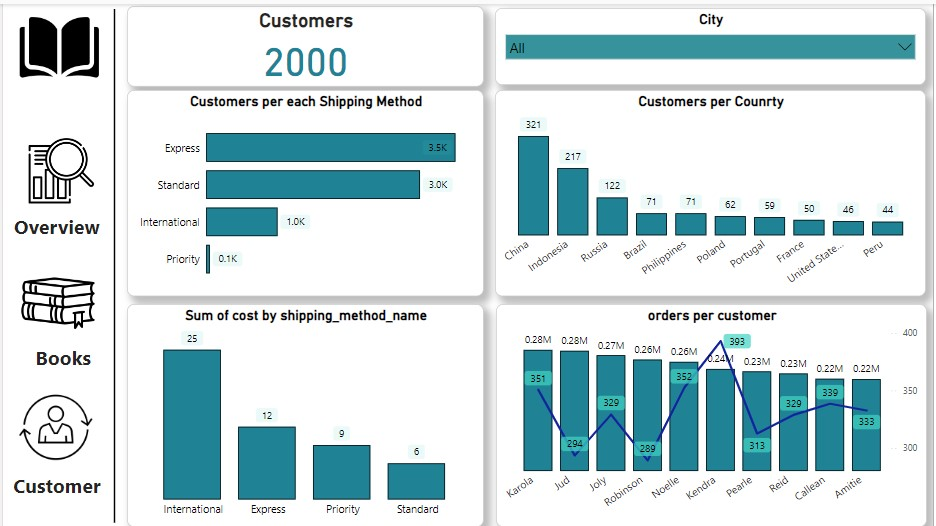

The page's visual inventory and layout, read from the dashboard file:
{"tool":"powerbi","page":{"name":"customer","canvas":[1280,720],"ordinal":2},"visuals":[{"type":"card","title":"Customers","fields":{"Values":["CountNonNull(Customer_Dim.pk_customer_id_sk)"]},"box":[170.7,2.8,491.4,111.5],"z":0},{"type":"slicer","title":"City","fields":{"Values":["Address_Dim.city"]},"box":[677.2,5.5,593.2,106],"z":1000},{"type":"clusteredBarChart","title":"Customers per each Shipping Method","fields":{"Category":["Shipping_Method_Dim.shipping_method_name"],"Y":["CountNonNull(Order_History_Fact.fk_customer_id_BK)"]},"box":[170.7,118.4,491.4,283.5],"z":2000},{"type":"clusteredColumnChart","fields":{"Y":["Sum(Shipping_Method_Dim.cost)"],"Category":["Shipping_Method_Dim.shipping_method_name"]},"box":[170.7,412.9,491.4,307],"z":3000},{"type":"clusteredColumnChart","title":"Customers per Counrty","fields":{"Category":["Address_Dim.country_name"],"Y":["CountNonNull(Customer_address_Dim.fk_customer_id_bk)"]},"box":[677.2,118.4,593.2,284],"z":4000},{"type":"lineClusteredColumnComboChart","title":"orders per customer ","fields":{"Category":["Customer_Dim.First_Name"],"Y":["Sum(Sales_Fact.line_id)"],"Y2":["Sum(Sales_Fact.price)"]},"box":[678,412.9,593.2,306.9],"z":5000},{"type":"image","box":[0,0,154.1,118.9],"z":6000},{"type":"shape","box":[136.3,6.9,34.4,707.4],"z":7000},{"type":"image","box":[30.3,177.5,100.5,104.6],"z":8000},{"type":"image","box":[14.9,341.9,120.3,110.8],"z":9000},{"type":"textbox","box":[0,282.4,148.6,47.3],"z":10000},{"type":"textbox","box":[29.7,462.2,105.4,52.7],"z":11000},{"type":"textbox","box":[0,638.6,148.6,49.5],"z":12000},{"type":"image","box":[15.1,527.1,115.6,111.5],"z":13000}]}

Visuals, with their boxes on the page's 1280x720 design canvas (x1, y1, x2, y2). These are canvas units, not pixel positions in the 936x526 screenshot, which may show the page scaled, cropped or inside an application window:
"Customers" card: {"x1": 171, "y1": 3, "x2": 662, "y2": 114}
"City" slicer: {"x1": 677, "y1": 6, "x2": 1270, "y2": 112}
"Customers per each Shipping Method" clusteredBarChart: {"x1": 171, "y1": 118, "x2": 662, "y2": 402}
clusteredColumnChart - Sum(Shipping_Method_Dim.cost) x Shipping_Method_Dim.shipping_method_name: {"x1": 171, "y1": 413, "x2": 662, "y2": 720}
"Customers per Counrty" clusteredColumnChart: {"x1": 677, "y1": 118, "x2": 1270, "y2": 402}
"orders per customer " lineClusteredColumnComboChart: {"x1": 678, "y1": 413, "x2": 1271, "y2": 720}
image: {"x1": 0, "y1": 0, "x2": 154, "y2": 119}
shape: {"x1": 136, "y1": 7, "x2": 171, "y2": 714}
image: {"x1": 30, "y1": 178, "x2": 131, "y2": 282}
image: {"x1": 15, "y1": 342, "x2": 135, "y2": 453}
textbox: {"x1": 0, "y1": 282, "x2": 149, "y2": 330}
textbox: {"x1": 30, "y1": 462, "x2": 135, "y2": 515}
textbox: {"x1": 0, "y1": 639, "x2": 149, "y2": 688}
image: {"x1": 15, "y1": 527, "x2": 131, "y2": 639}
